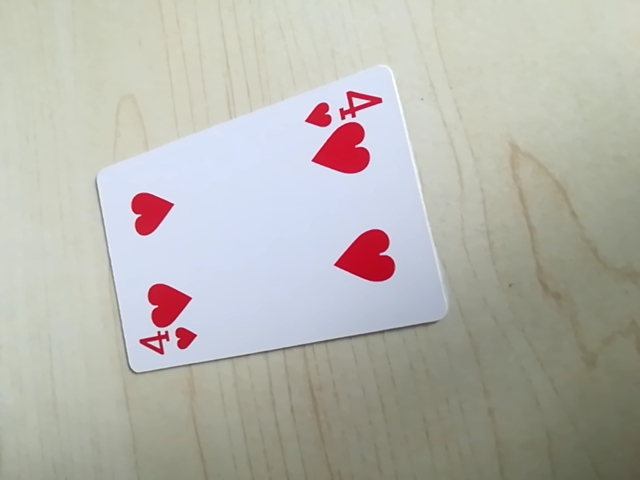hx 4: (301, 86, 387, 129), (132, 325, 202, 363)
